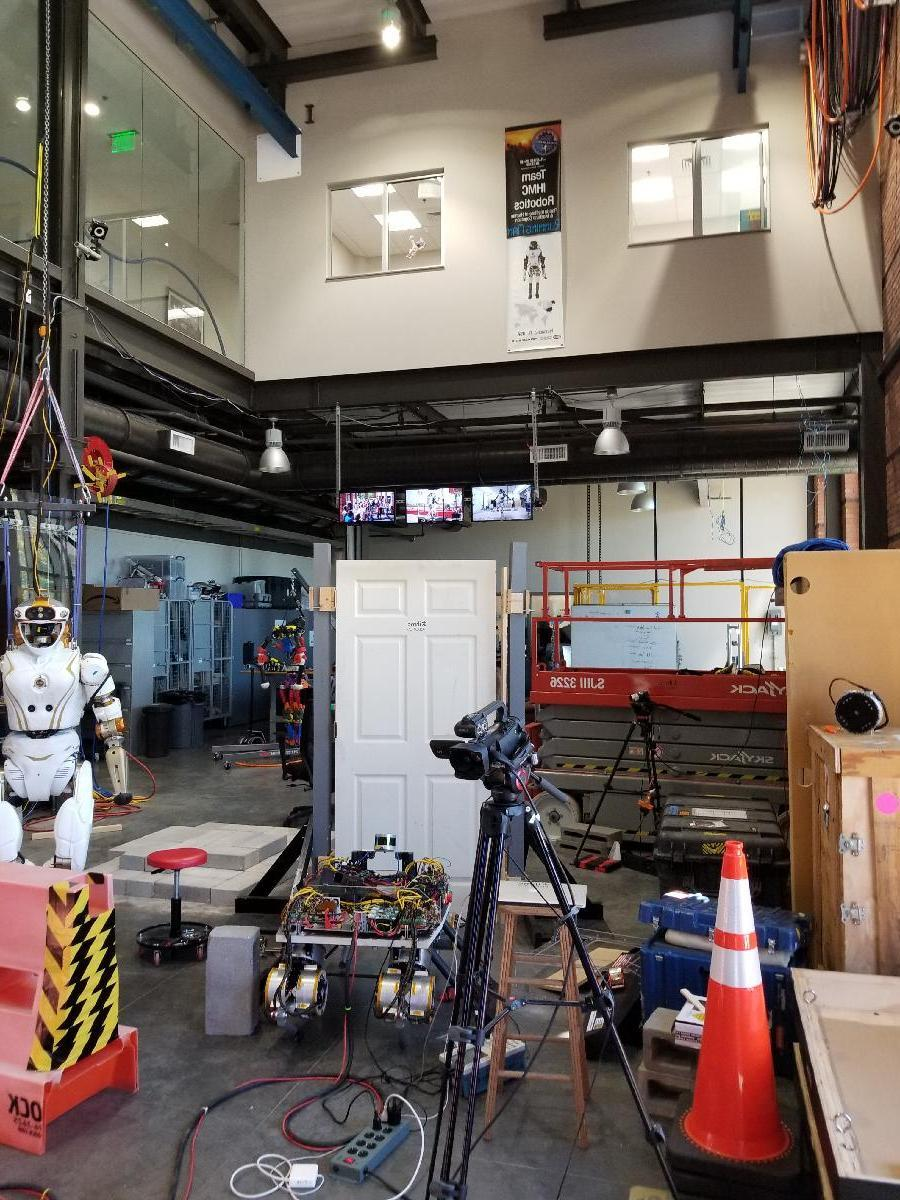door: (327, 553, 495, 945)
